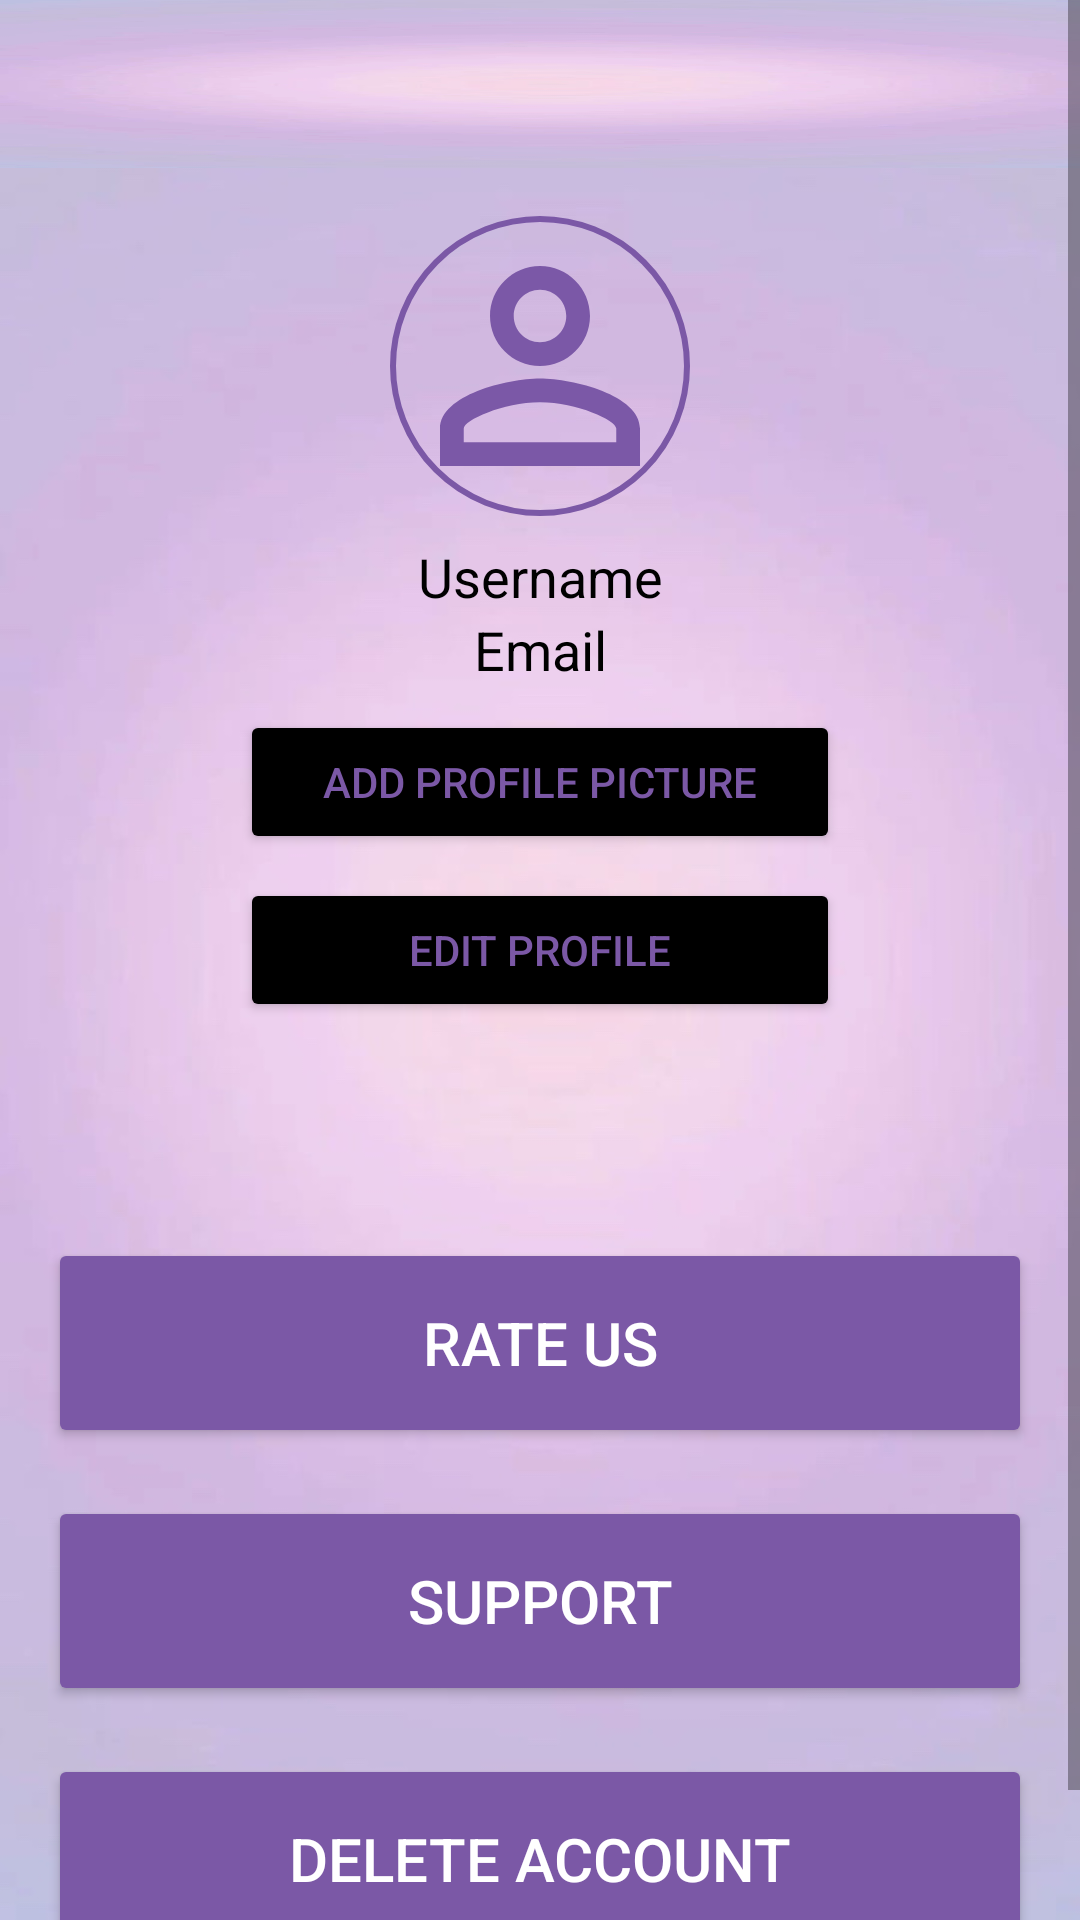

Where to tap for icons on this 1080px×1920px app screen, as point (x, y):
person: point (540, 366)
